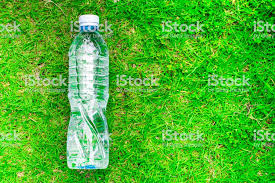plastic_bottle: (66, 14, 110, 171)
